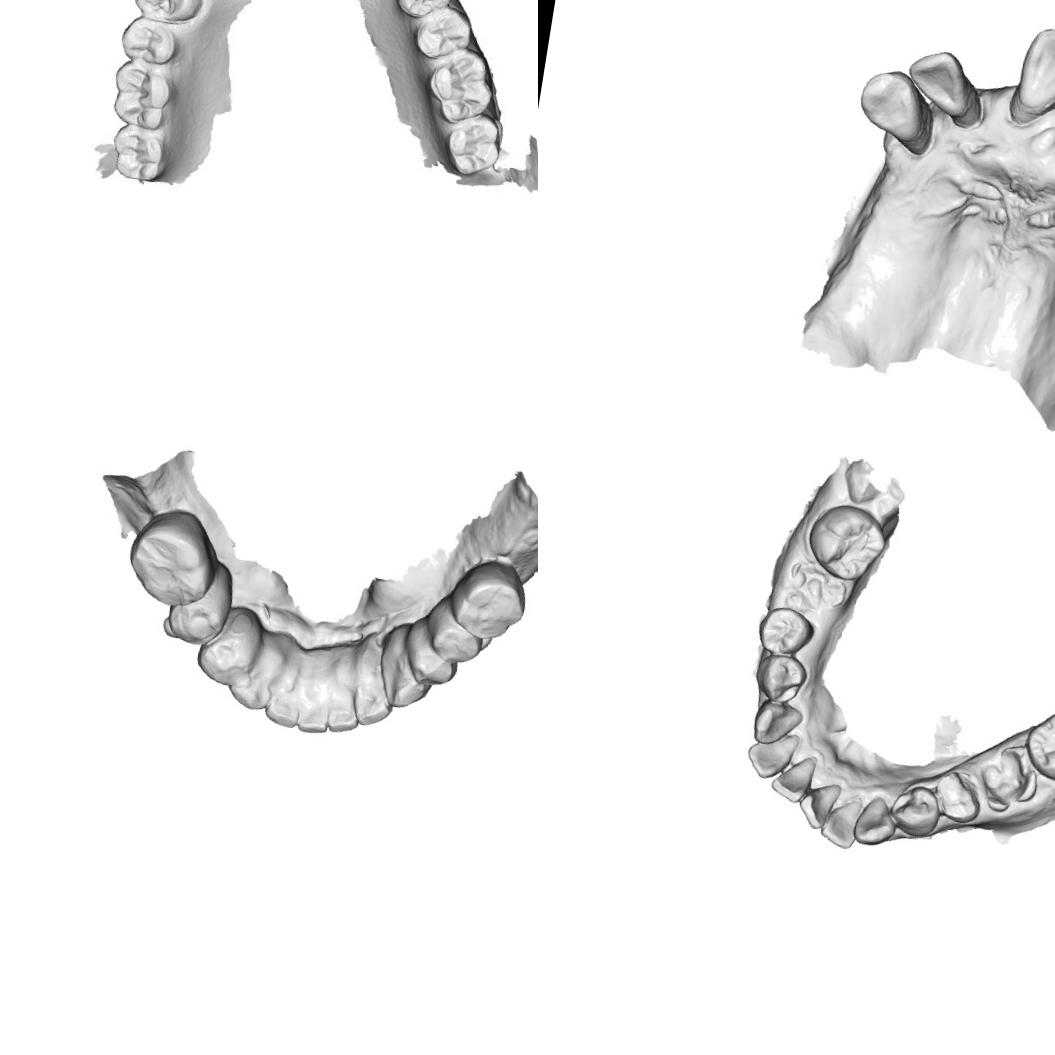canine: (852, 64, 933, 147), (224, 648, 284, 716), (379, 652, 430, 715), (850, 792, 901, 849), (750, 698, 805, 749)
incisor: (900, 44, 976, 123), (1010, 23, 1055, 119), (742, 727, 800, 783), (768, 750, 819, 806), (818, 792, 864, 851), (794, 778, 842, 832), (262, 677, 308, 732), (352, 676, 396, 730), (321, 686, 365, 738), (294, 690, 334, 737)
molar: (118, 509, 222, 613), (444, 554, 535, 644), (802, 499, 892, 586), (420, 46, 497, 128), (105, 56, 178, 133), (438, 112, 506, 181), (106, 121, 175, 188), (1020, 703, 1055, 787)
premolar: (192, 606, 266, 694), (162, 577, 233, 653), (408, 1, 476, 66), (113, 10, 180, 72), (401, 626, 462, 690), (427, 604, 488, 667), (754, 602, 817, 660), (751, 650, 810, 707), (887, 781, 944, 840), (930, 768, 986, 826), (129, 0, 205, 28), (393, 0, 461, 23)
